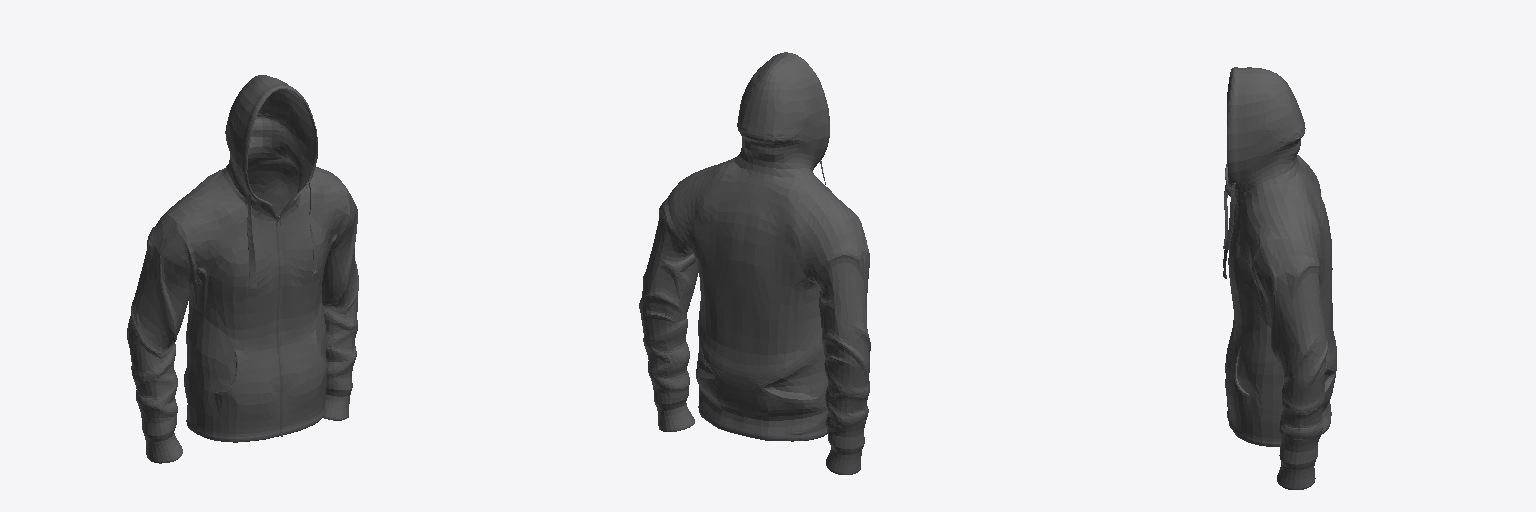
File: KraftWear_hoodie_model.obj
3 views of the same model, side by side, from view 1: azimuth 30°, elevation 25°; view 2: azimuth 150°, elevation 25°; view 3: azimuth 270°, elevation 25° (orthographic).
Parts seen in each view (by area): view 1: hoodie.001_Untitled.002, Object002_Untitled.005, Line002_Untitled.006; view 2: hoodie.001_Untitled.002; view 3: hoodie.001_Untitled.002, Line002_Untitled.006.
Part boxes in pixels (x1,y1,x2,y2): hoodie.001_Untitled.002: (127,75,358,463); Object002_Untitled.005: (247,89,315,215); Line002_Untitled.006: (247,183,317,289); hoodie.001_Untitled.002: (639,52,870,474); hoodie.001_Untitled.002: (1225,67,1336,489); Line002_Untitled.006: (1223,184,1234,278).
Size of the model in its own units: 0.6343 by 1.01 by 0.2793.